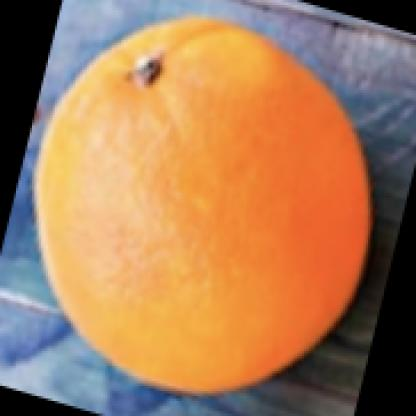fresh: (39, 18, 373, 390)
